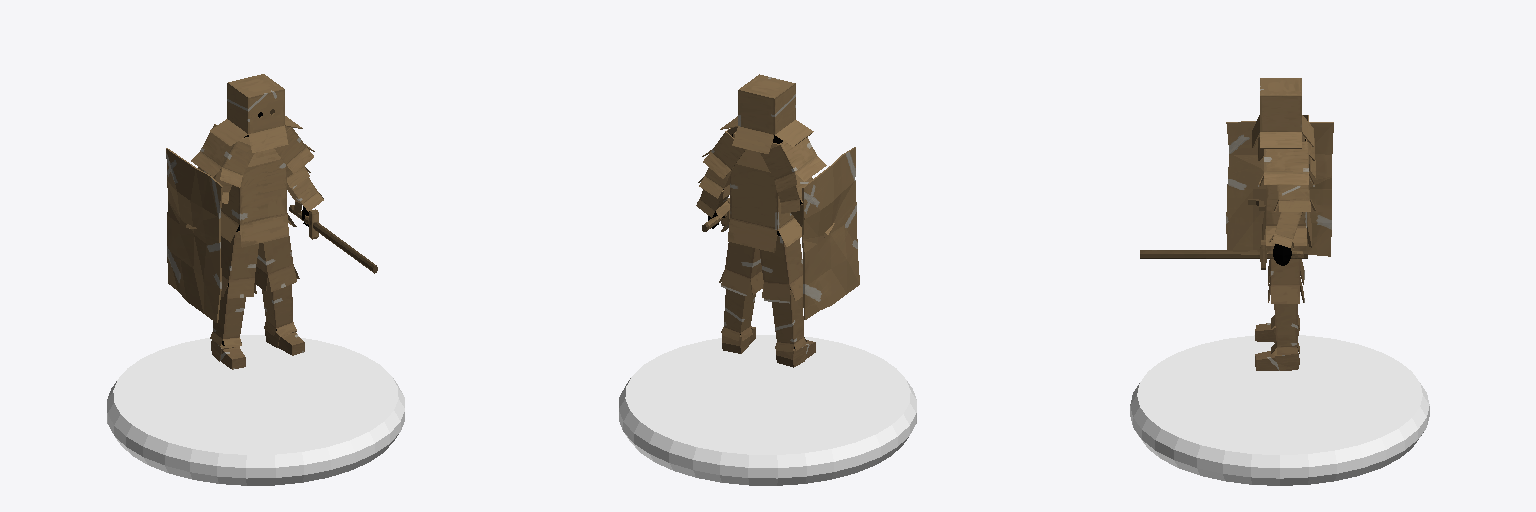
3 renders of one model, left to right at view 1: azimuth 30°, elevation 25°; view 2: azimuth 150°, elevation 25°; view 3: azimuth 270°, elevation 25°, orthographic.
Visible parts, largest first — view 1: Object_41, Object_11, Object_8, Object_7, Object_9, Object_10; view 2: Object_41, Object_8, Object_11, Object_10, Object_7, Object_9; view 3: Object_41, Object_11, Object_8, Object_10, Object_9, Object_7.
Boxes of the visible parts, x1,y1,x2,y2 form: Object_41: [107, 335, 404, 485]; Object_11: [166, 148, 377, 322]; Object_8: [210, 231, 304, 369]; Object_7: [221, 137, 296, 247]; Object_9: [210, 74, 302, 152]; Object_10: [186, 124, 323, 228]; Object_41: [619, 335, 916, 485]; Object_8: [719, 235, 815, 367]; Object_11: [702, 147, 859, 319]; Object_10: [696, 127, 834, 237]; Object_7: [721, 132, 801, 252]; Object_9: [720, 74, 813, 153]; Object_41: [1130, 335, 1429, 485]; Object_11: [1140, 121, 1333, 269]; Object_8: [1255, 246, 1304, 370]; Object_10: [1258, 115, 1315, 248]; Object_9: [1252, 78, 1313, 148]; Object_7: [1262, 134, 1311, 247].
Size of the model in its own units: 1.44 by 1.8 by 1.44.
7 materials, 5 textured.